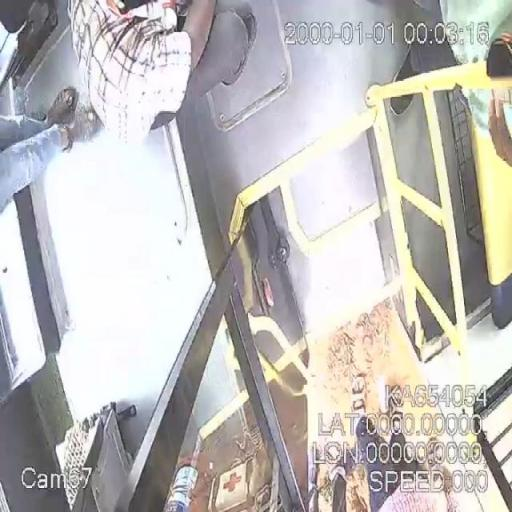persona: (65, 0, 195, 145), (349, 371, 440, 512)
